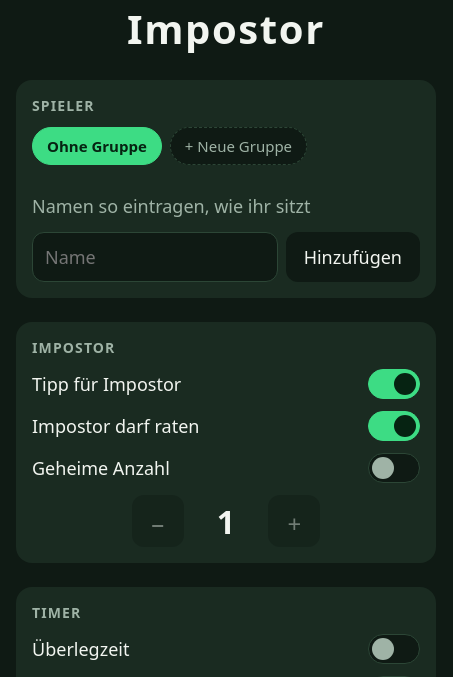
Test: SetupScreen › nimmt doppelte Namen nicht auf und lässt den Namen zum Ergänzen stehen
This screenshot has width=453, height=677.
Step 1. Type "Luca" into the field labelled "Name" → (155, 257), box [32,232,278,282]
Then press Enter
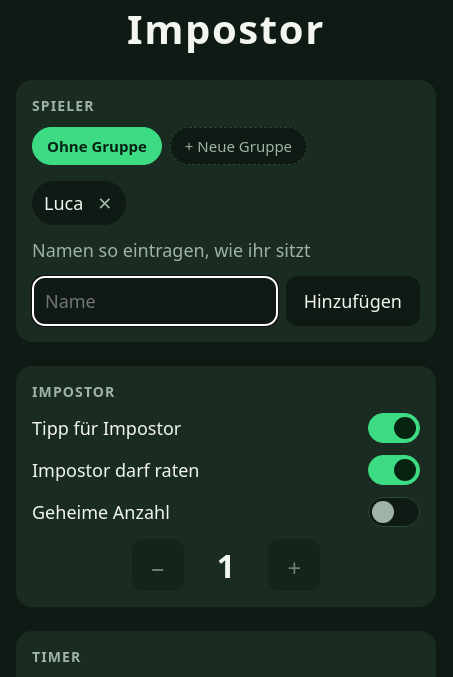
Step 2. Type " luca " into the field labelled "Name" → (155, 301), box [32,276,278,326]
Then press Enter
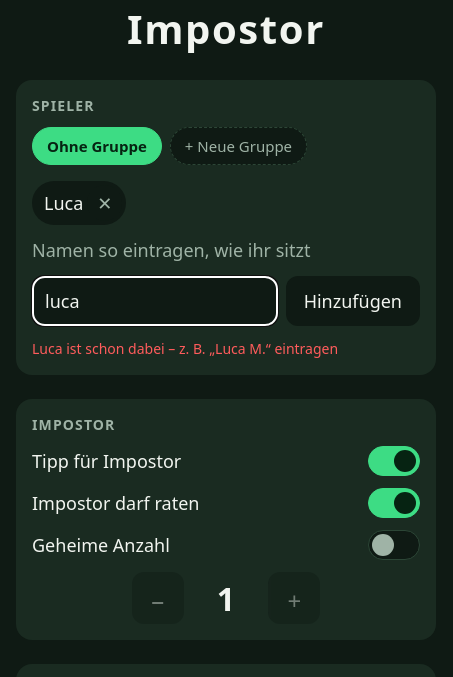
expect the number of buttons named "entfernen" is 1: met, box [87,185,122,221]
expect the text "Luca ist schon dabei – z. B. „Luca M.“ eintragen" is shown: met, box [32,339,338,358]
Step 3. Type "M." into the field named "Name" → (155, 301), box [32,276,278,326]
Then press Enter
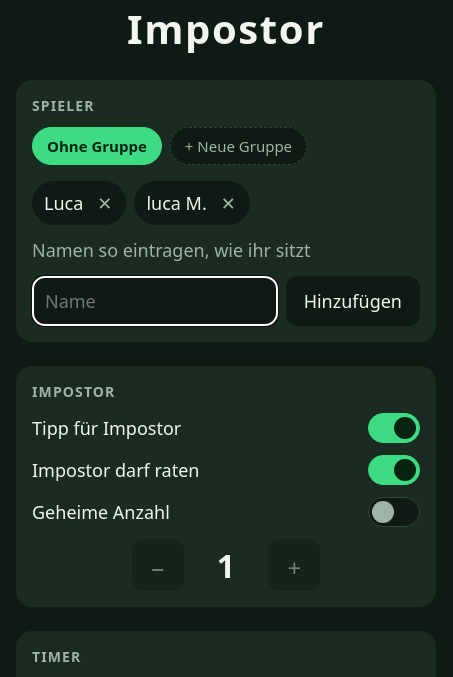
expect the text "luca M." is shown: met, box [146,191,207,215]
expect the text "ist schon dabei" is gone: met
